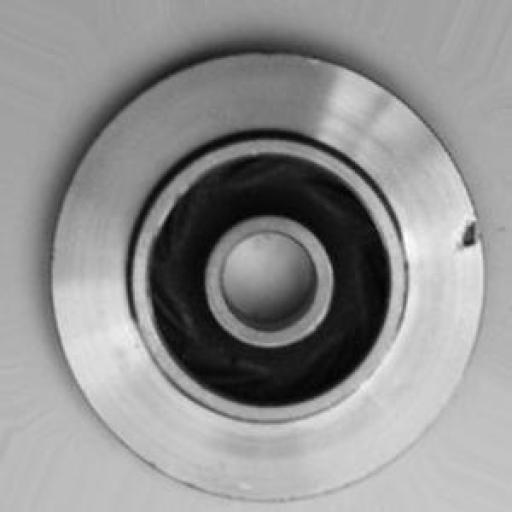defect: (428, 199, 490, 268)
